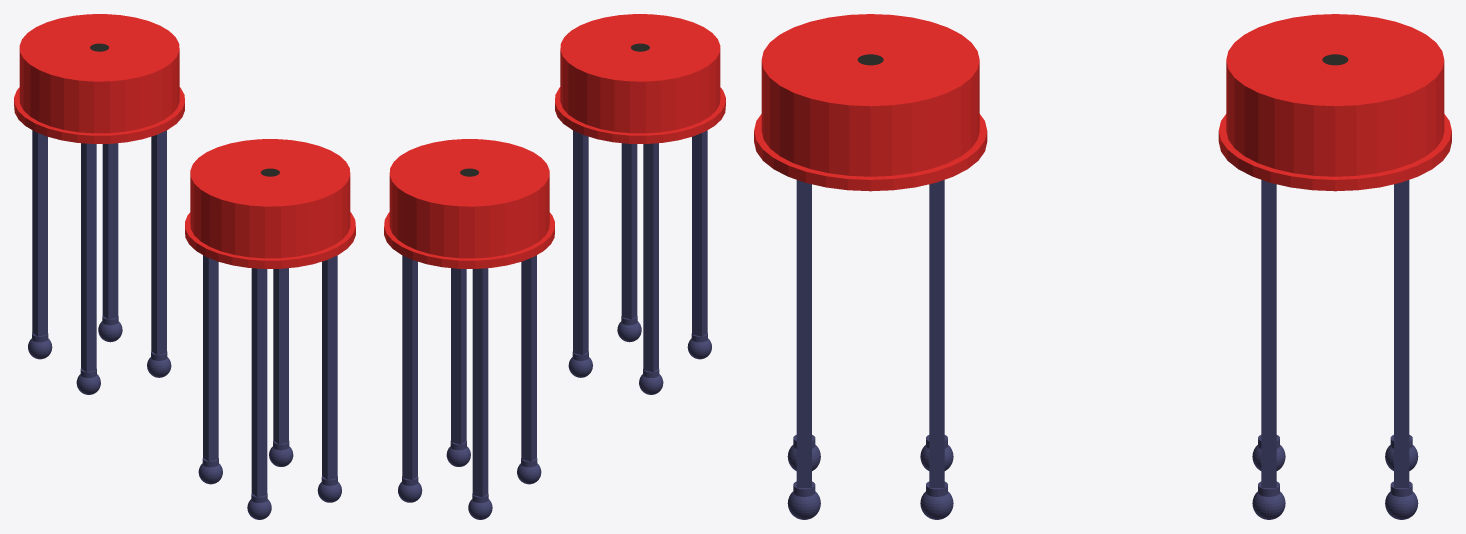
File: bancos.obj
3 views of the same model, side by side, from view 1: azimuth 30°, elevation 25°; view 2: azimuth 150°, elevation 25°; view 3: azimuth 270°, elevation 25° (orthographic). The views are drawn at different scales.
Parts seen in each view (by area): view 1: Cylinder.011, Cylinder, Cube.006, Cube.001, Cube.007, Cube, Cube.002, Cube.005, Cube.003, Cube.004, Cylinder.001, Cylinder.010; view 2: Cylinder, Cylinder.011, Cube.002, Cube.005, Cube.003, Cube.004, Cube.001, Cube.006, Cube.007, Cube, Cylinder.010, Cylinder.001; view 3: Cylinder, Cylinder.011, Cube.003, Cube.007, Cube, Cube.004, Cylinder.001, Cylinder.010.
Boxes of the visible parts, x1=… form: Cylinder.011: x1=190, y1=139, x2=350, y2=258; Cylinder: x1=19, y1=14, x2=179, y2=133; Cube.006: x1=251, y1=268, x2=267, y2=497; Cube.001: x1=81, y1=143, x2=96, y2=372; Cube.007: x1=322, y1=255, x2=337, y2=479; Cube: x1=151, y1=130, x2=166, y2=354; Cube.002: x1=32, y1=130, x2=47, y2=336; Cube.005: x1=203, y1=255, x2=218, y2=461; Cube.003: x1=102, y1=143, x2=118, y2=319; Cube.004: x1=273, y1=268, x2=288, y2=444; Cylinder.001: x1=14, y1=87, x2=184, y2=143; Cylinder.010: x1=185, y1=212, x2=355, y2=268; Cylinder: x1=389, y1=139, x2=549, y2=258; Cylinder.011: x1=560, y1=14, x2=720, y2=133; Cube.002: x1=472, y1=268, x2=488, y2=497; Cube.005: x1=643, y1=143, x2=658, y2=372; Cube.003: x1=402, y1=255, x2=417, y2=479; Cube.004: x1=573, y1=130, x2=588, y2=354; Cube.001: x1=521, y1=255, x2=536, y2=461; Cube.006: x1=692, y1=130, x2=707, y2=336; Cube.007: x1=621, y1=143, x2=637, y2=319; Cube: x1=451, y1=268, x2=466, y2=444; Cylinder.010: x1=555, y1=87, x2=725, y2=143; Cylinder.001: x1=384, y1=212, x2=554, y2=268; Cylinder: x1=1226, y1=14, x2=1444, y2=176; Cylinder.011: x1=761, y1=14, x2=979, y2=176; Cube.003: x1=1394, y1=180, x2=1409, y2=487; Cube.007: x1=796, y1=180, x2=811, y2=487; Cube: x1=1261, y1=180, x2=1276, y2=487; Cube.004: x1=929, y1=180, x2=944, y2=487; Cylinder.001: x1=1218, y1=114, x2=1451, y2=191; Cylinder.010: x1=754, y1=114, x2=987, y2=191.
Bounding box in the file's own units: 2.11 × 4.34 × 6.31.
4 materials, 4 textured.
